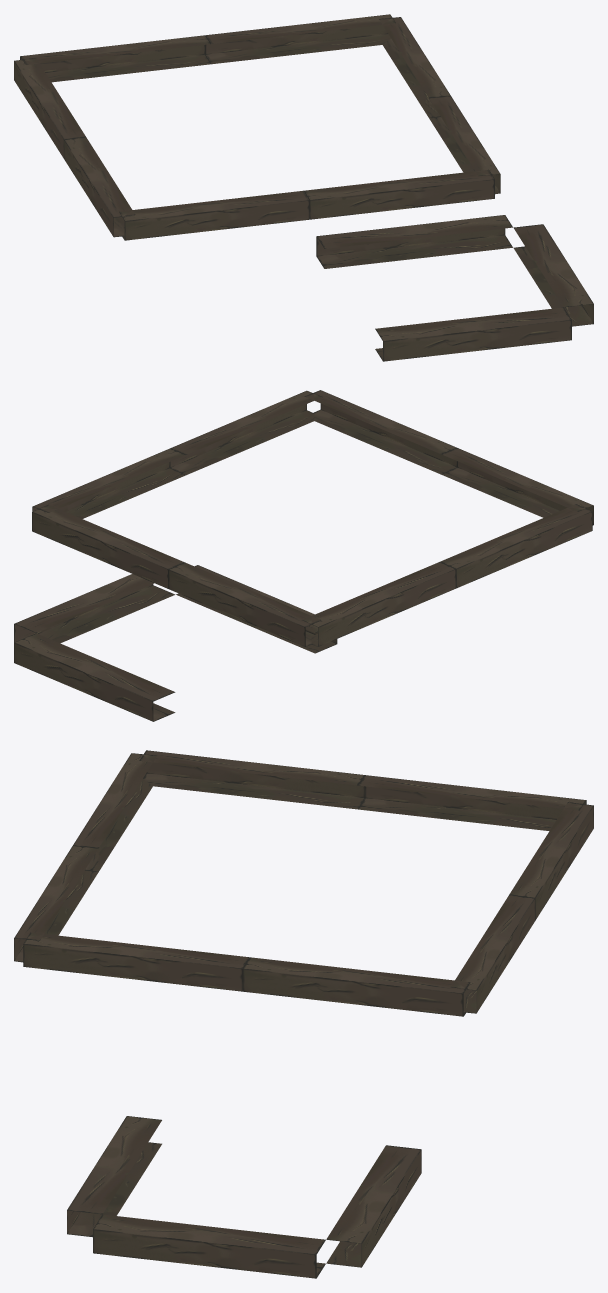
File: polysurface526_txt_poutreh_0_lev1_lev2.glb
3 renders of one model, top to bottom at view 1: azimuth 30°, elevation 25°; view 2: azimuth 150°, elevation 25°; view 3: azimuth 270°, elevation 25°, orthographic. The views are drawn at different scales.
Visible parts, largest first — view 1: polysurface526_txt_poutreh_0_lev1_lev2; view 2: polysurface526_txt_poutreh_0_lev1_lev2; view 3: polysurface526_txt_poutreh_0_lev1_lev2.
Part boxes in pixels (bbox=[...]): polysurface526_txt_poutreh_0_lev1_lev2: bbox=[14, 14, 593, 361]; polysurface526_txt_poutreh_0_lev1_lev2: bbox=[14, 390, 593, 721]; polysurface526_txt_poutreh_0_lev1_lev2: bbox=[14, 750, 593, 1278].
Size of the model in its own units: 9.09 by 3.49 by 7.69.
1 material, 1 textured.
